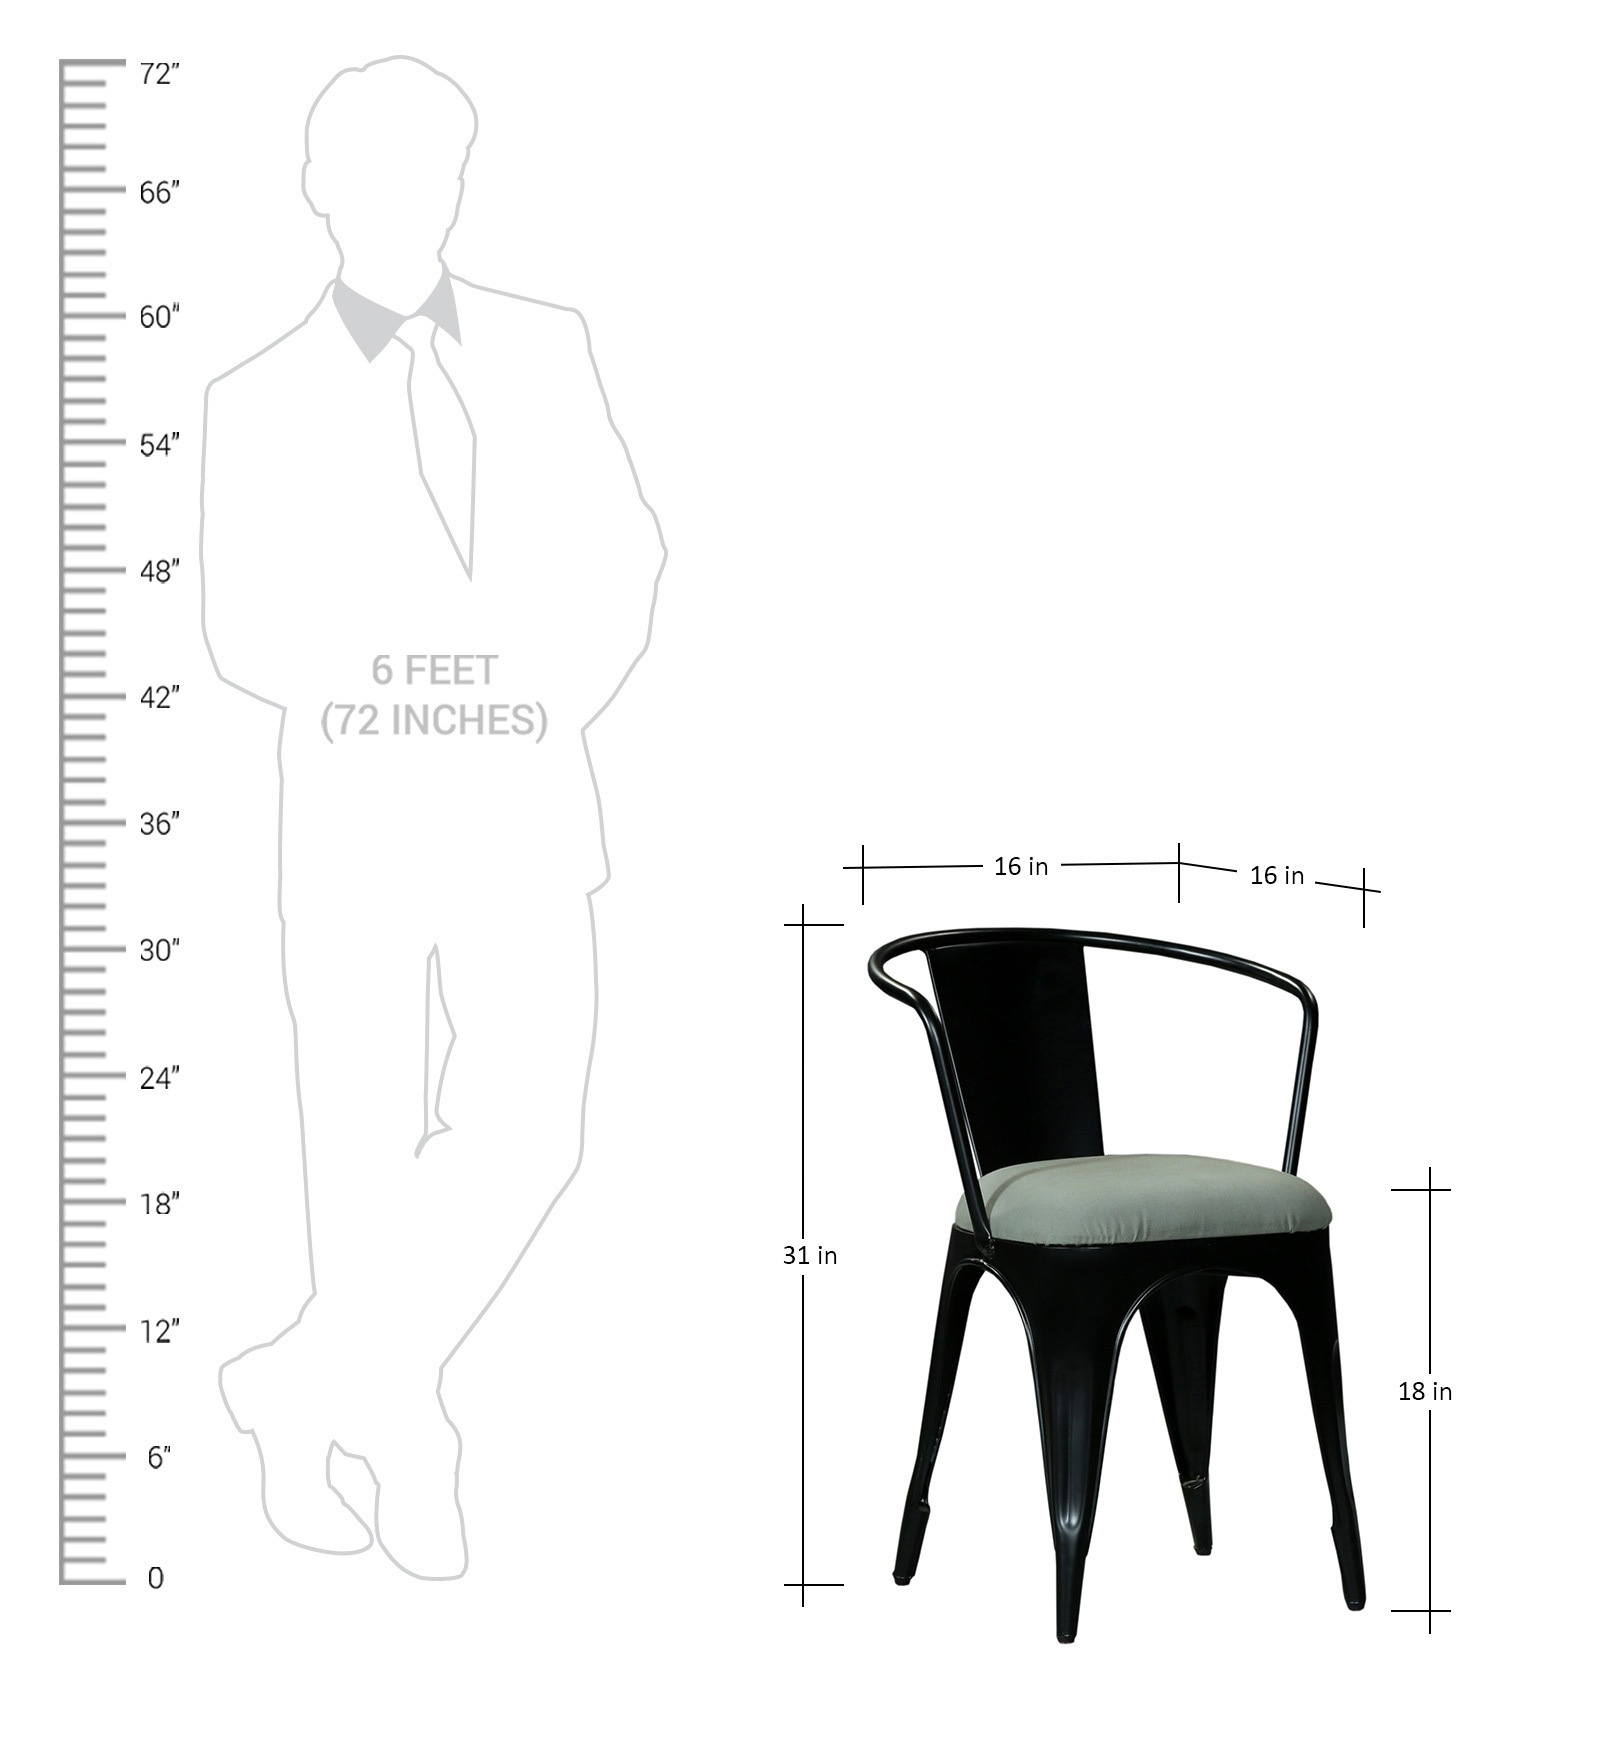Danlou Metal Chair with Cushion in Black Colour by Bohemiana: (849, 891, 1418, 1650)
